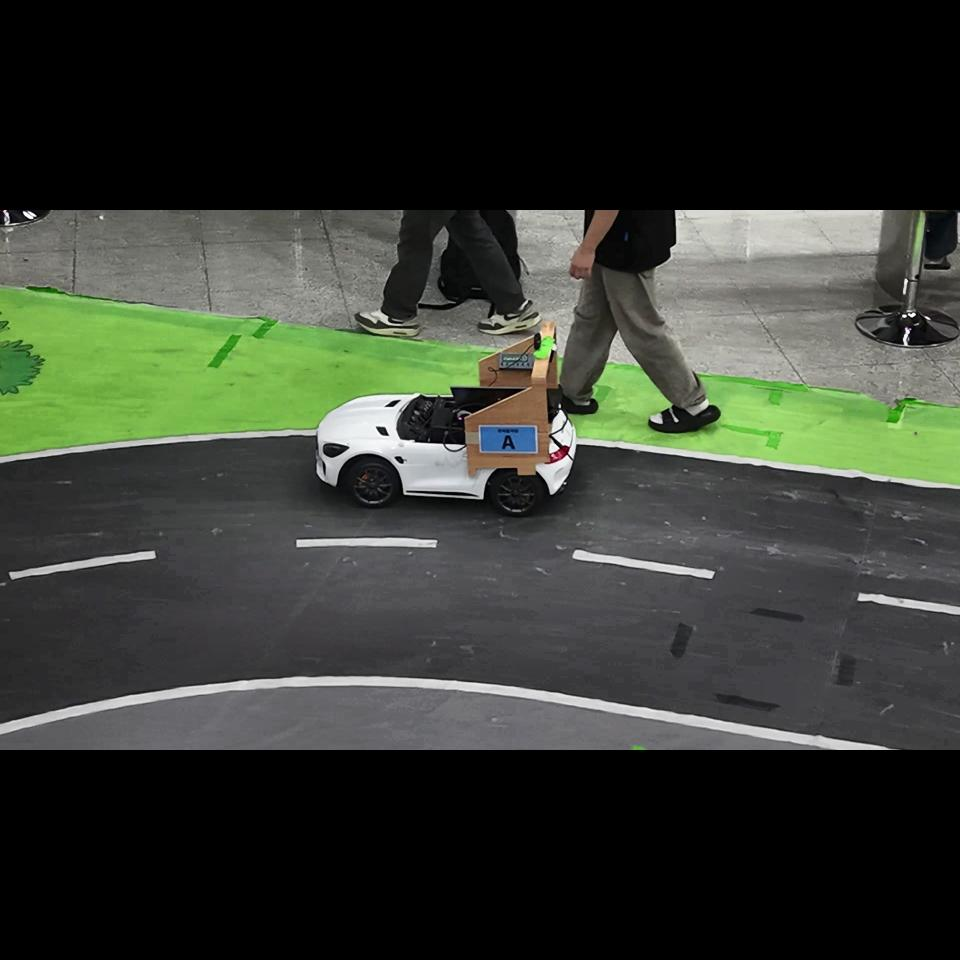broken_line: (9, 550, 157, 580), (572, 549, 716, 579), (857, 592, 960, 615), (296, 537, 438, 548)
